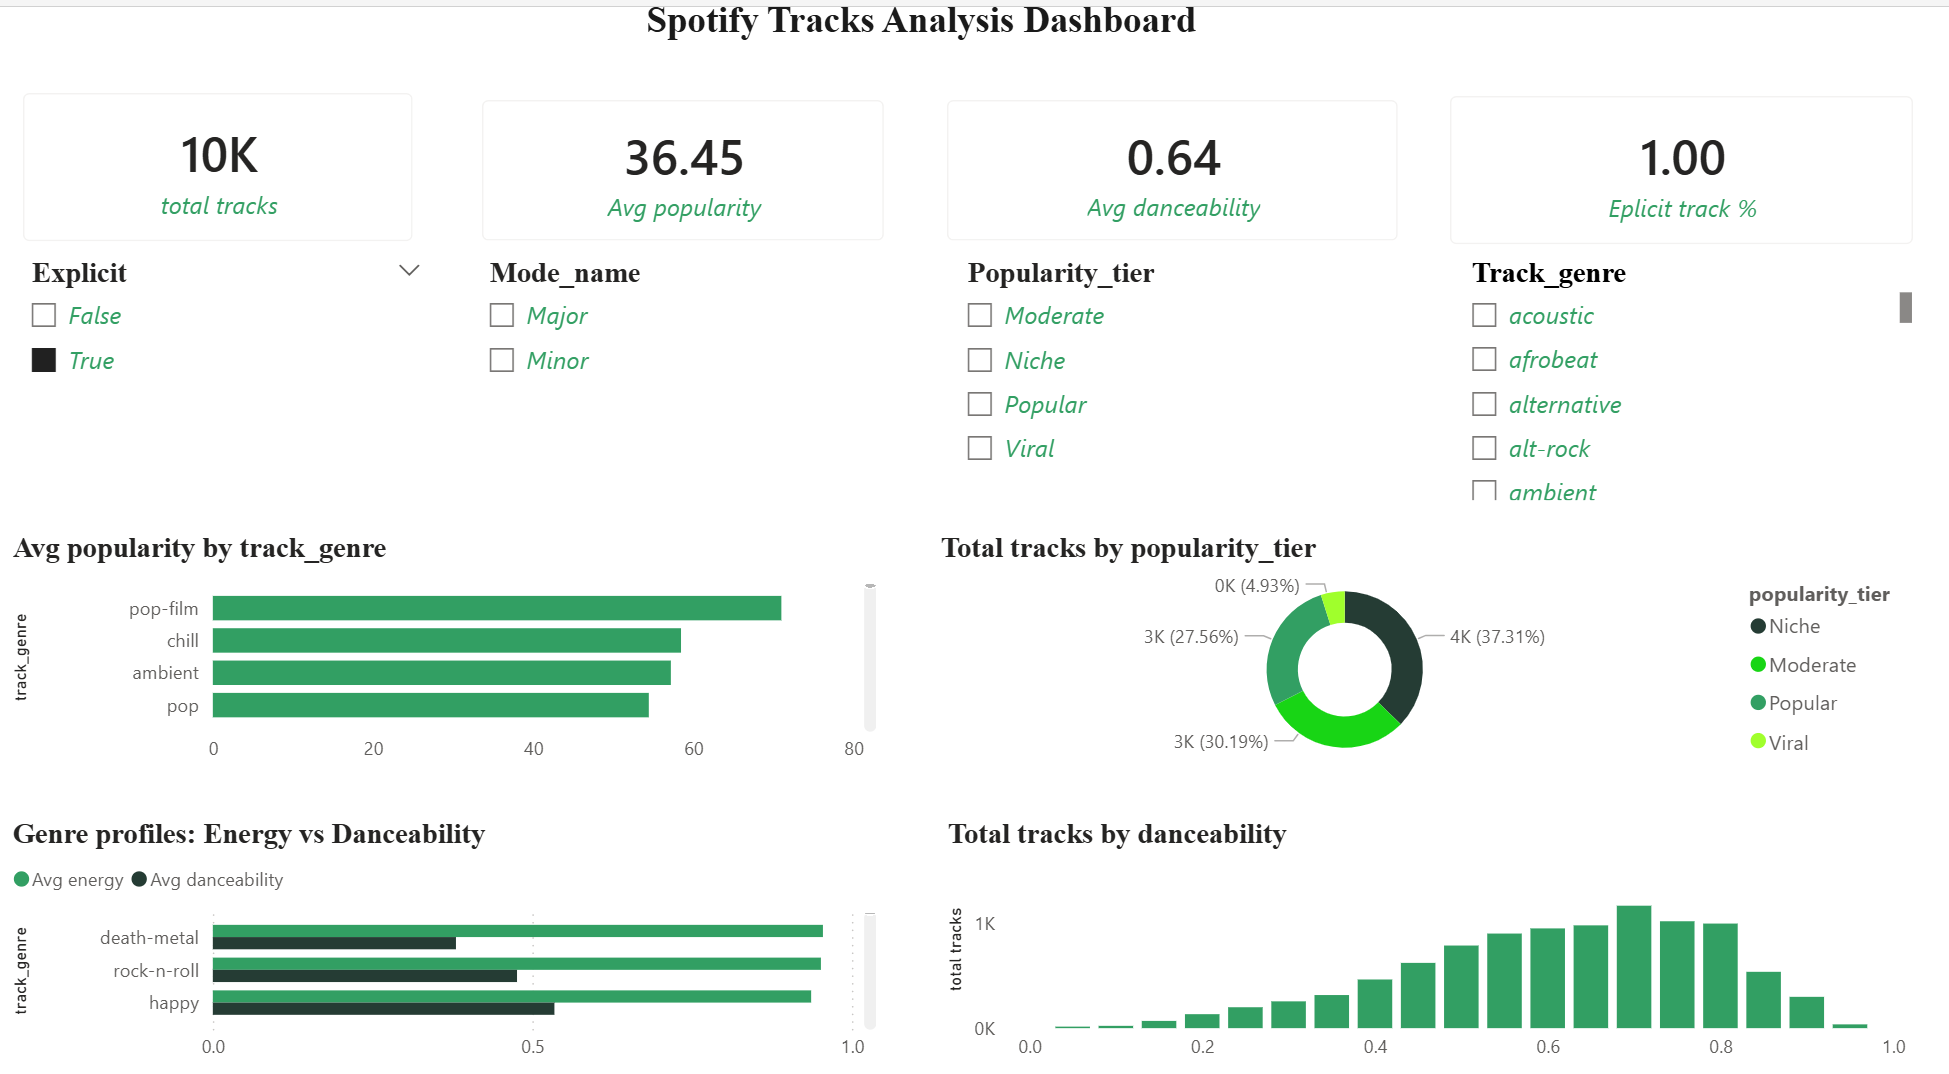

Layout of this report page (visuals, bound fields, positions):
{"tool":"powerbi","page":{"name":"dashboard","canvas":[1280,720],"ordinal":0},"visuals":[{"type":"cardVisual","fields":{"Data":["fact_tracks.total tracks"]},"box":[0,60.9,289.9,131.5],"z":0},{"type":"cardVisual","fields":{"Data":["fact_tracks.Avg danceability"]},"box":[604.7,65.4,329.2,127],"z":1000},{"type":"cardVisual","fields":{"Data":["fact_tracks.Eplicit track %"]},"box":[933.8,62.8,337,131.5],"z":2000},{"type":"cardVisual","fields":{"Data":["fact_tracks.Avg popularity"]},"box":[300.4,65.4,297.8,127],"z":3000},{"type":"clusteredBarChart","fields":{"Category":["fact_tracks.track_genre"],"Y":["fact_tracks.Avg popularity"]},"box":[5.2,364.5,575.2,160.3],"z":4000},{"type":"clusteredColumnChart","title":"Total tracks by danceability ","fields":{"Y":["fact_tracks.total tracks"],"Category":["fact_tracks.danceability (bins)"]},"box":[617.1,551.7,641.3,168.2],"z":5000},{"type":"slicer","fields":{"Values":["fact_tracks.track_genre"]},"box":[952.1,179.3,306.3,170.1],"z":6000},{"type":"donutChart","title":"Total tracks by popularity_tier","fields":{"Category":["fact_tracks.popularity_tier"],"Y":["fact_tracks.total tracks"]},"box":[612.5,364.5,645.9,160.3],"z":7000},{"type":"slicer","fields":{"Values":["fact_tracks.popularity_tier"]},"box":[622.3,179.3,295.8,170.1],"z":8000},{"type":"slicer","fields":{"Values":["fact_tracks.explicit"]},"box":[9.8,179.3,280.1,170.1],"z":9000},{"type":"slicer","fields":{"Values":["fact_tracks.Mode_name"]},"box":[309.5,179.3,280.1,170.1],"z":10000},{"type":"textbox","box":[50.4,11.8,1109.2,53.7],"z":11000},{"type":"clusteredBarChart","title":"Genre profiles: Energy vs Danceability","fields":{"Category":["fact_tracks.track_genre"],"Y":["fact_tracks.Avg energy","fact_tracks.Avg danceability"]},"box":[5.2,551.7,575.2,168.2],"z":12000}]}

Visuals, with their boxes in screenshot pixels (x1, y1, x2, y2), scaled from the page's 1280x720 canvas onto the 1949x1074 screenshot:
cardVisual - fact_tracks.total tracks: region(0, 91, 441, 287)
cardVisual - fact_tracks.Avg danceability: region(921, 98, 1422, 287)
cardVisual - fact_tracks.Eplicit track %: region(1422, 94, 1935, 290)
cardVisual - fact_tracks.Avg popularity: region(457, 98, 911, 287)
clusteredBarChart - fact_tracks.track_genre x fact_tracks.Avg popularity: region(8, 544, 884, 783)
"Total tracks by danceability " clusteredColumnChart: region(940, 823, 1916, 1073)
slicer - fact_tracks.track_genre: region(1450, 267, 1916, 521)
"Total tracks by popularity_tier" donutChart: region(933, 544, 1916, 783)
slicer - fact_tracks.popularity_tier: region(948, 267, 1398, 521)
slicer - fact_tracks.explicit: region(15, 267, 441, 521)
slicer - fact_tracks.Mode_name: region(471, 267, 898, 521)
textbox: region(77, 18, 1766, 98)
"Genre profiles: Energy vs Danceability" clusteredBarChart: region(8, 823, 884, 1073)
